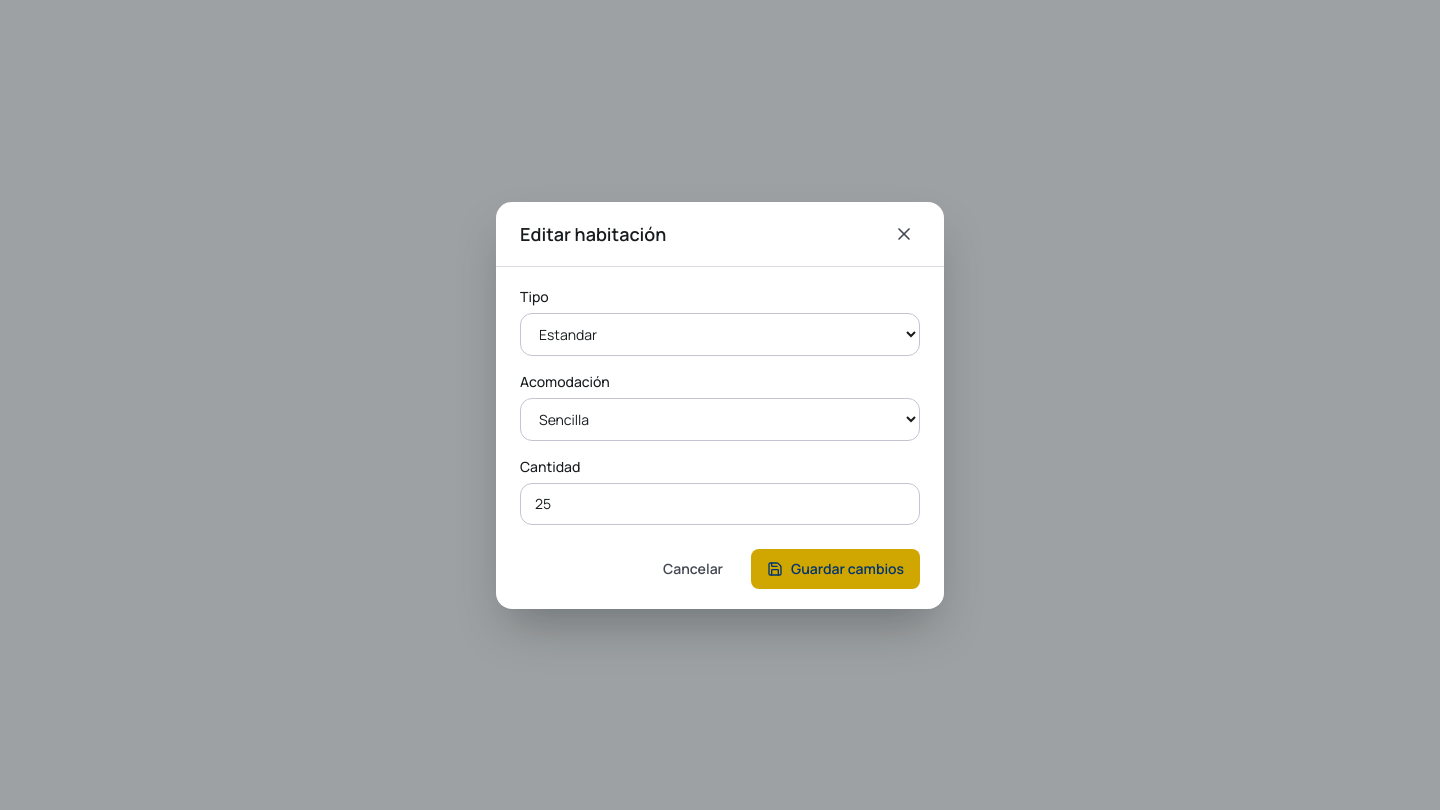
Test: RoomFormModal › muestra el error de campo que devuelve el servidor sin cerrar el modal
Click the button "Guardar cambios".
click(836, 568)  # box x1=751 y1=548 x2=920 y2=588
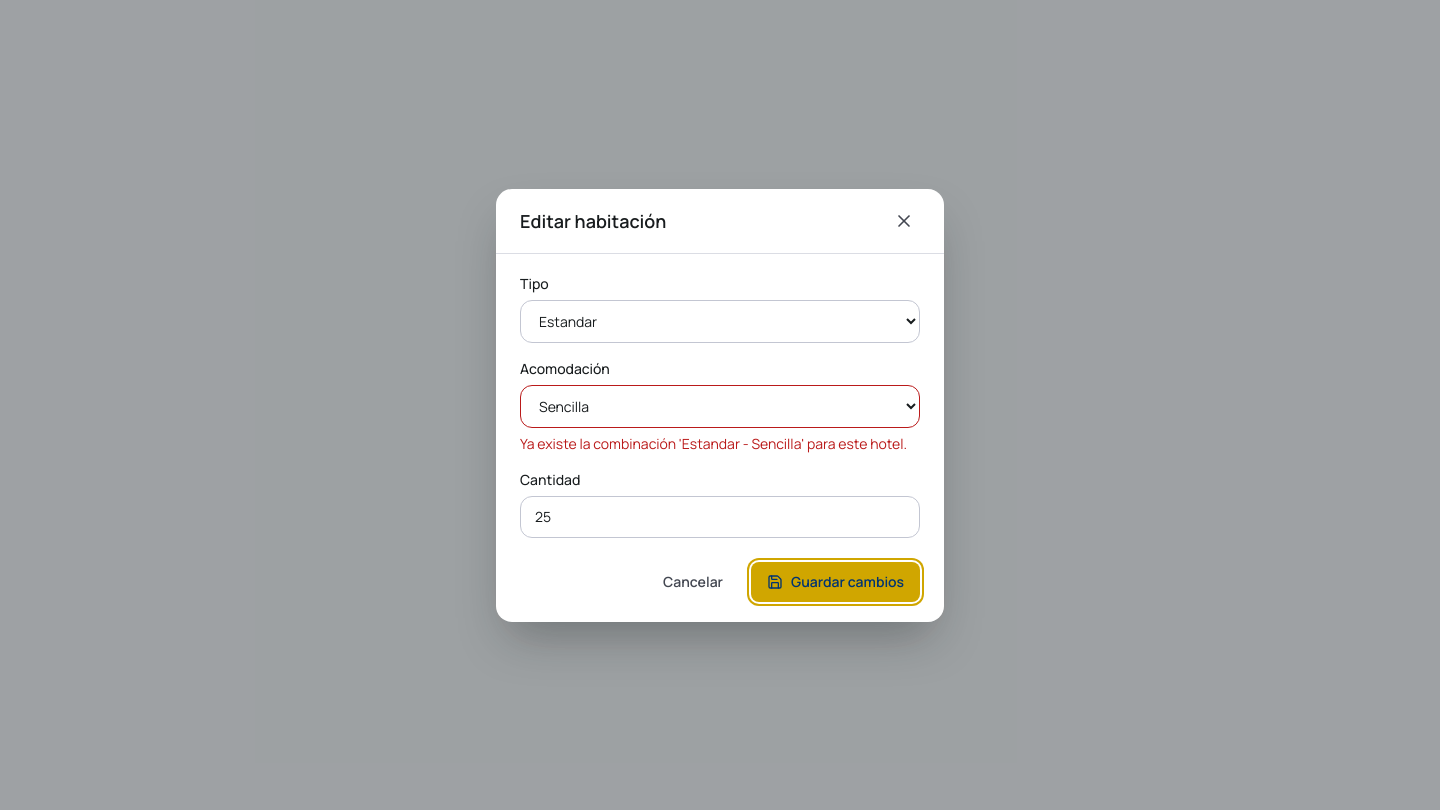
Now the text "Ya existe la combinación 'Estandar - Sencilla' para este hotel." is shown, box x1=520 y1=434 x2=920 y2=454
